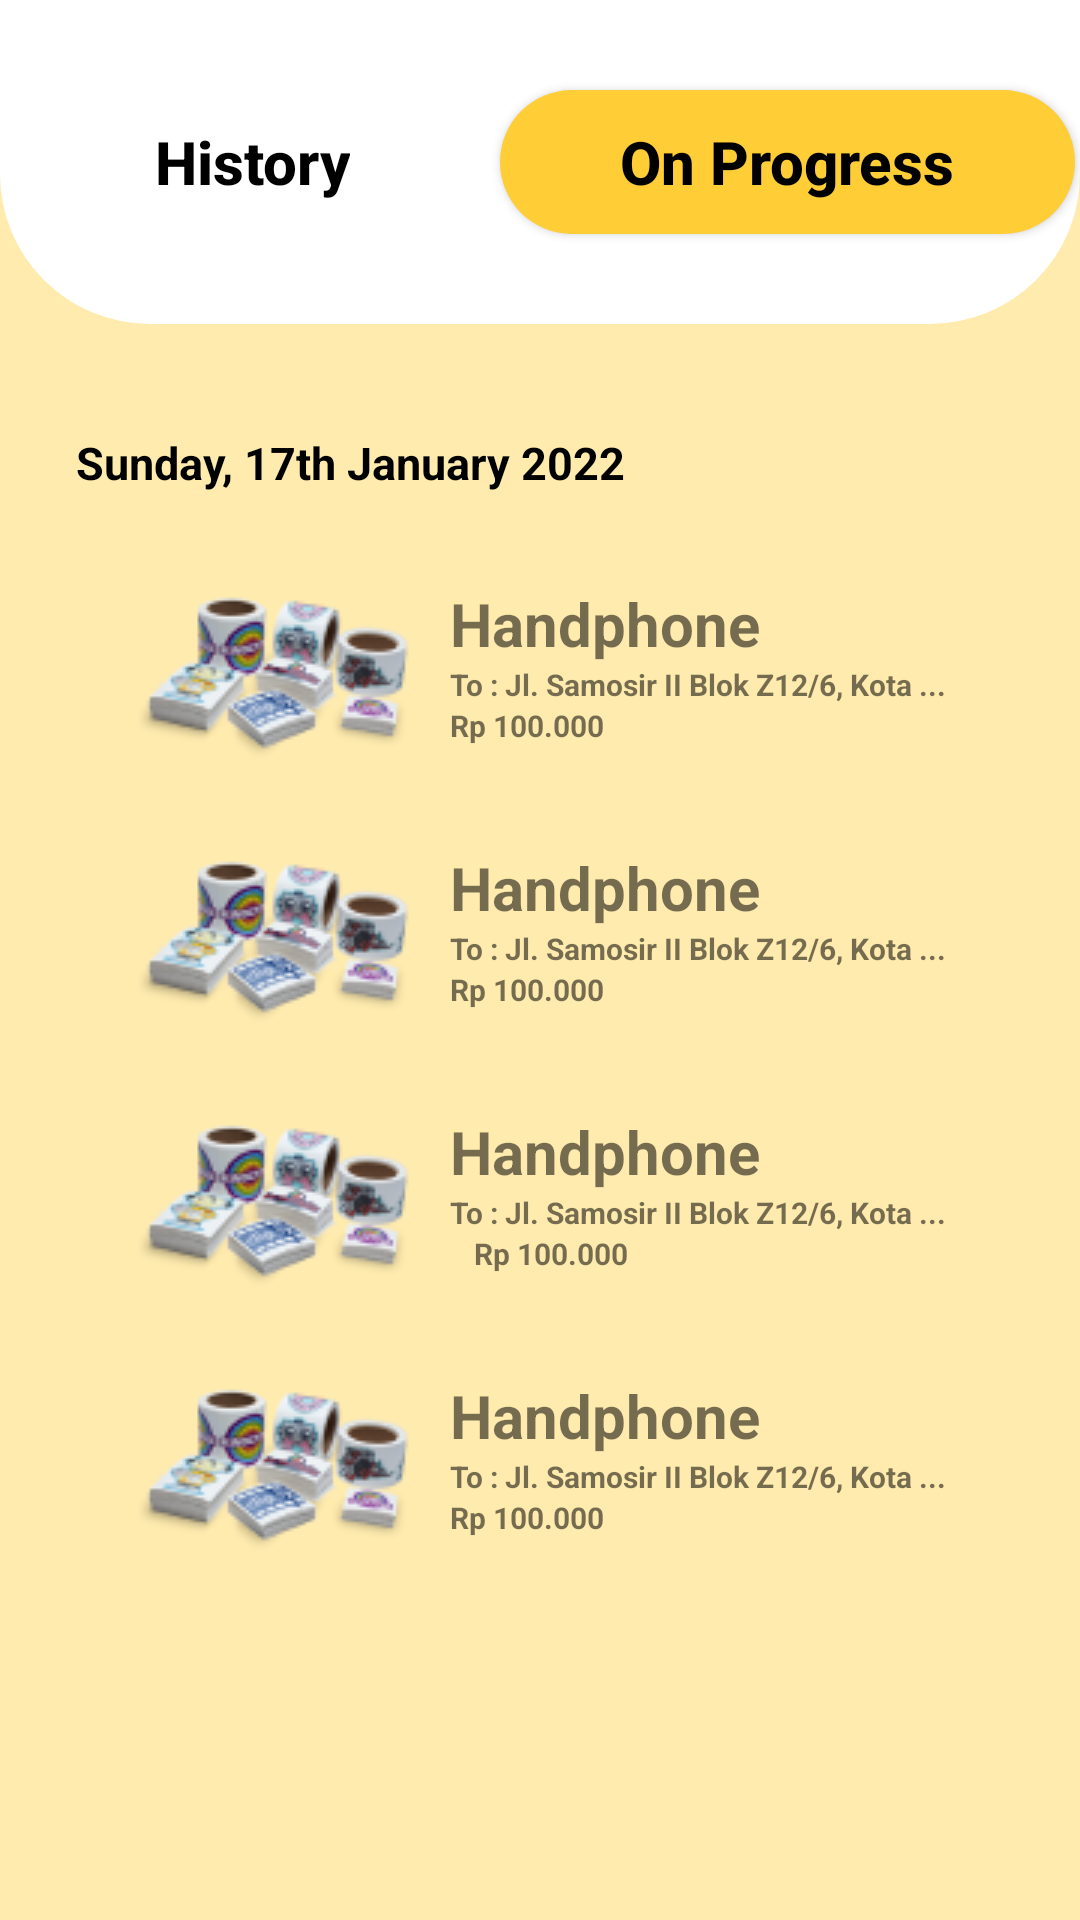

Screen size 1080*1920. Icon name, then its center in pixels as (x=x, y=y):
stiker: (x=276, y=673), (x=276, y=937), (x=276, y=1201), (x=276, y=1465)
